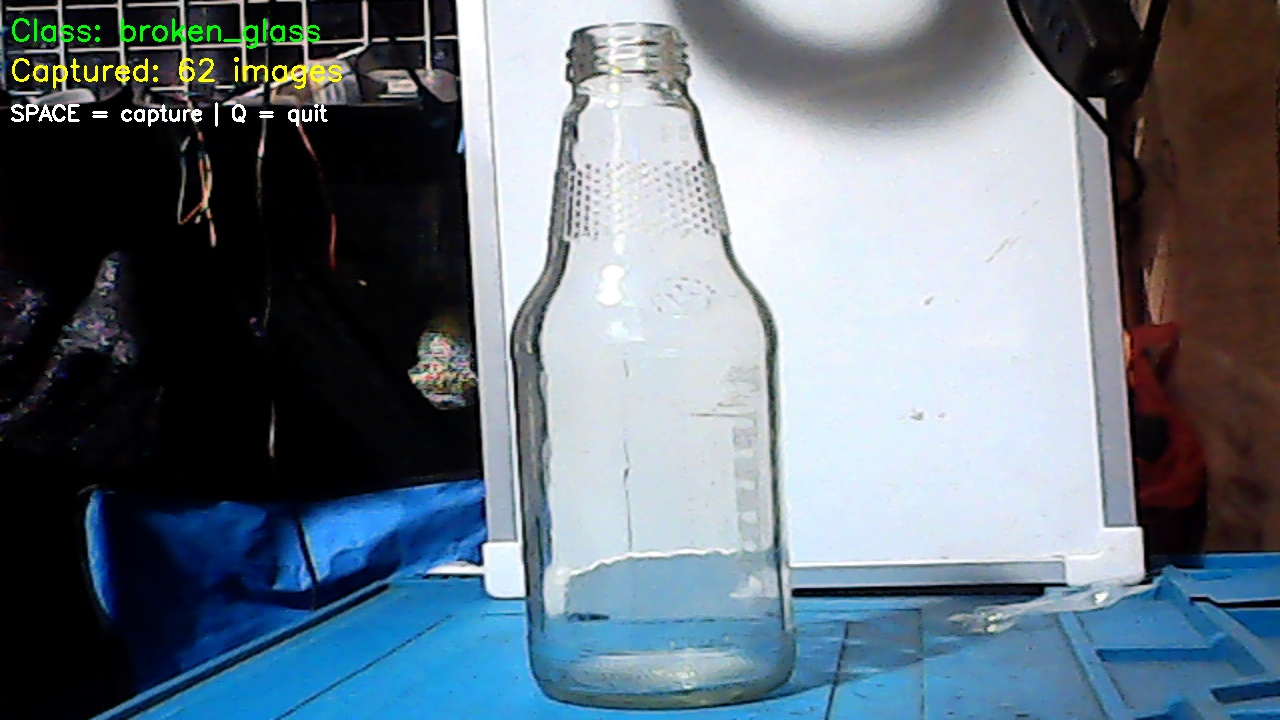broken_glass: (498, 28, 799, 711)
